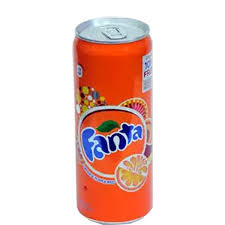fanta_can: (73, 17, 154, 225)
